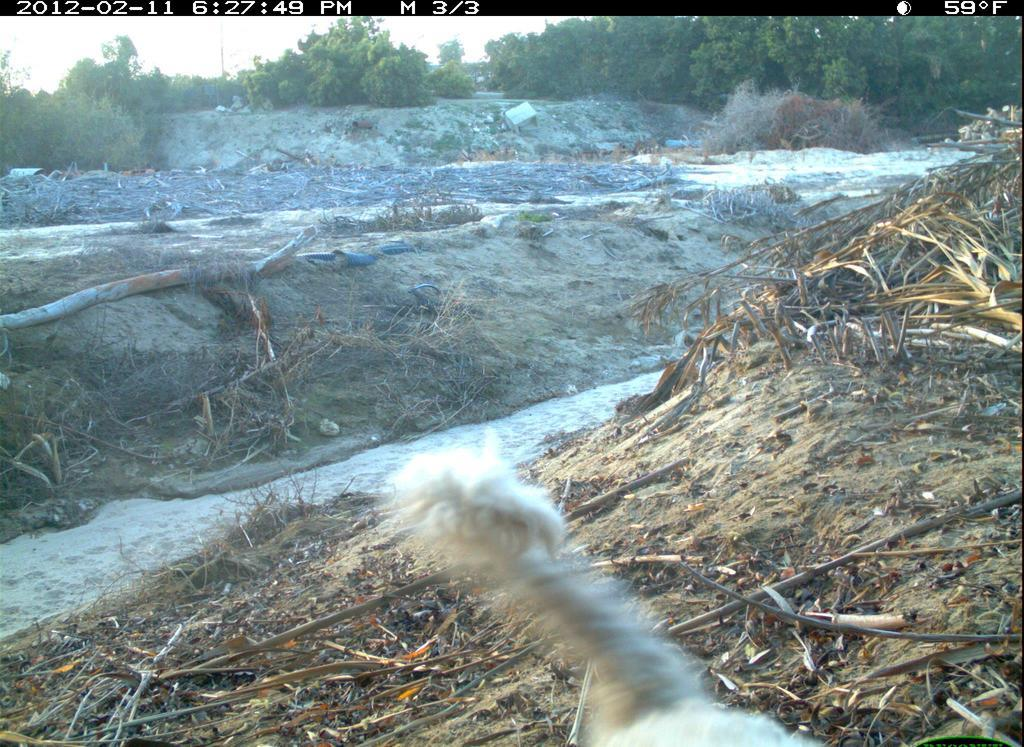dog: (388, 428, 848, 747)
